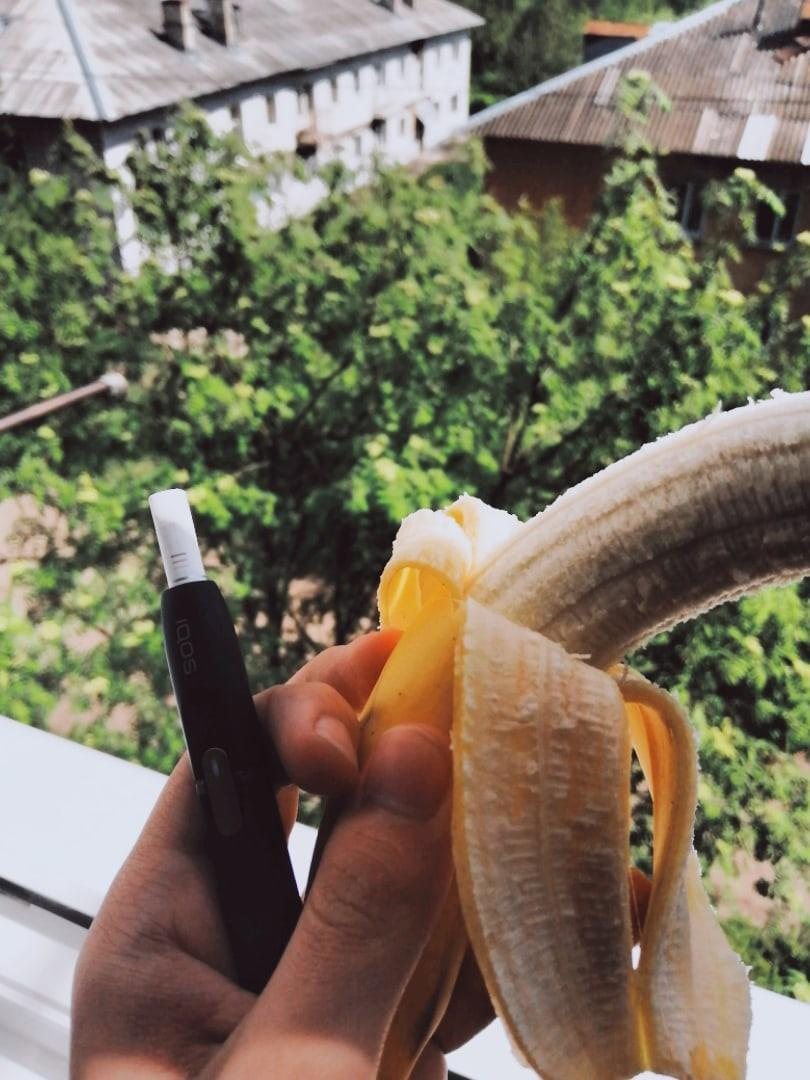iqos: (151, 489, 303, 995)
